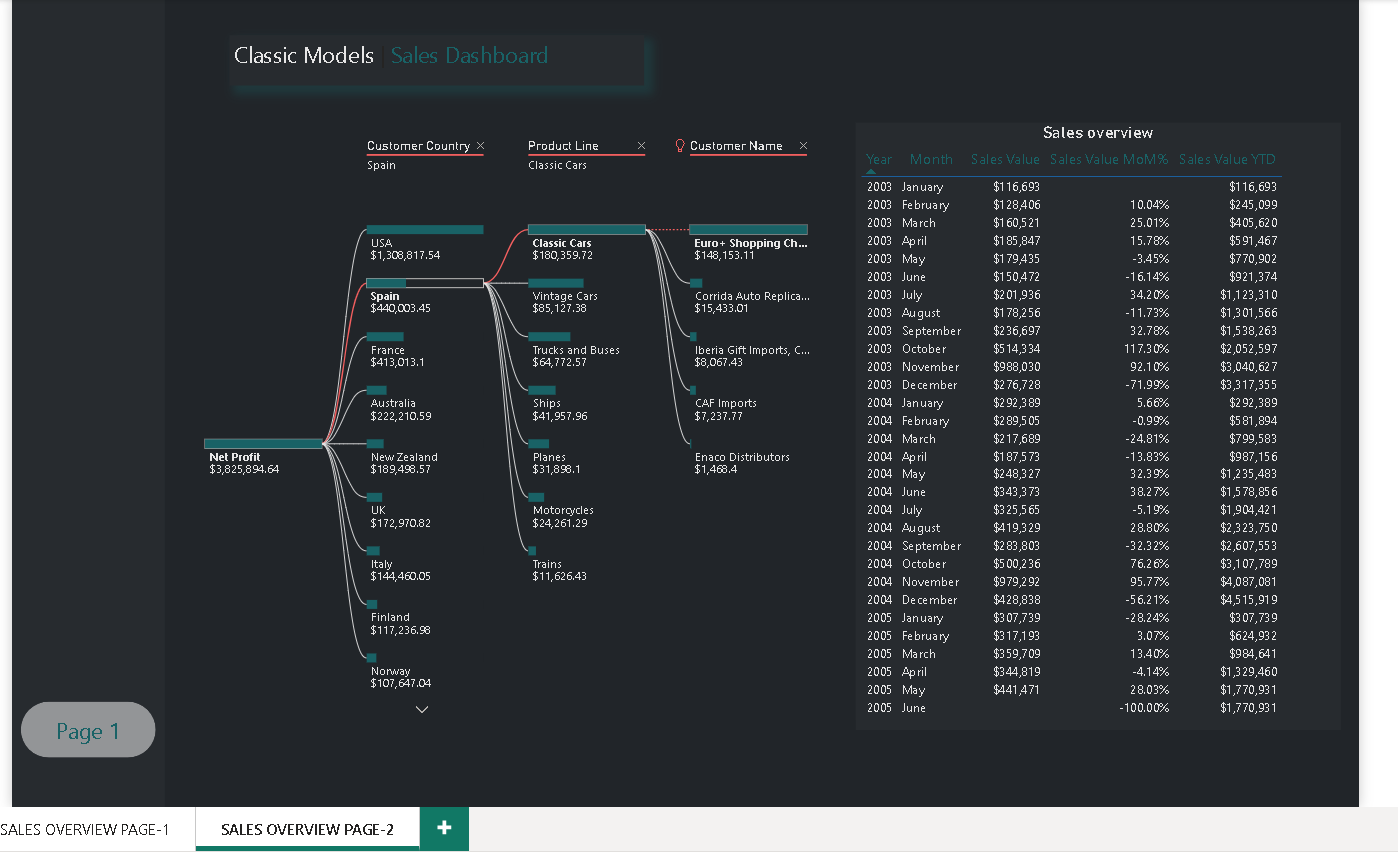

The dashboard page shown, as its layout file describes it:
{"tool":"powerbi","page":{"name":"SALES OVERVIEW PAGE-2","canvas":[1500,900],"ordinal":1},"visuals":[{"type":"shape","box":[0,0,170,900.3],"z":0},{"type":"decompositionTreeVisual","fields":{"Analyze":["classicmodels sales_data_for_power_bi.Net Profit"],"ExplainBy":["classicmodels sales_data_for_power_bi.customer_country","classicmodels sales_data_for_power_bi.productLine","classicmodels sales_data_for_power_bi.customerName"]},"box":[185.1,137.8,798.7,693],"z":1},{"type":"textbox","box":[242.1,40.4,462,55.7],"z":2},{"type":"tableEx","title":"Sales overview","fields":{"Values":["classicmodels sales_data_for_power_bi.orderdate.Variation.Date Hierarchy.Year","classicmodels sales_data_for_power_bi.orderdate.Variation.Date Hierarchy.Month","Sum(classicmodels sales_data_for_power_bi.sales_value)","classicmodels sales_data_for_power_bi.sales_value MoM%","classicmodels sales_data_for_power_bi.sales_value YTD"]},"box":[939.2,137.8,539.9,676.3],"z":3},{"type":"actionButton","box":[9.7,782,150.3,62.6],"z":4}]}

Visuals, with their boxes on the page's 1500x900 design canvas (x1, y1, x2, y2). These are canvas units, not pixel positions in the 1398x852 screenshot, which may show the page scaled, cropped or inside an application window:
shape: x1=0, y1=0, x2=170, y2=900
decompositionTreeVisual - classicmodels sales_data_for_power_bi.Net Profit x classicmodels sales_data_for_power_bi.customer_country: x1=185, y1=138, x2=984, y2=831
textbox: x1=242, y1=40, x2=704, y2=96
"Sales overview" tableEx: x1=939, y1=138, x2=1479, y2=814
actionButton: x1=10, y1=782, x2=160, y2=845
